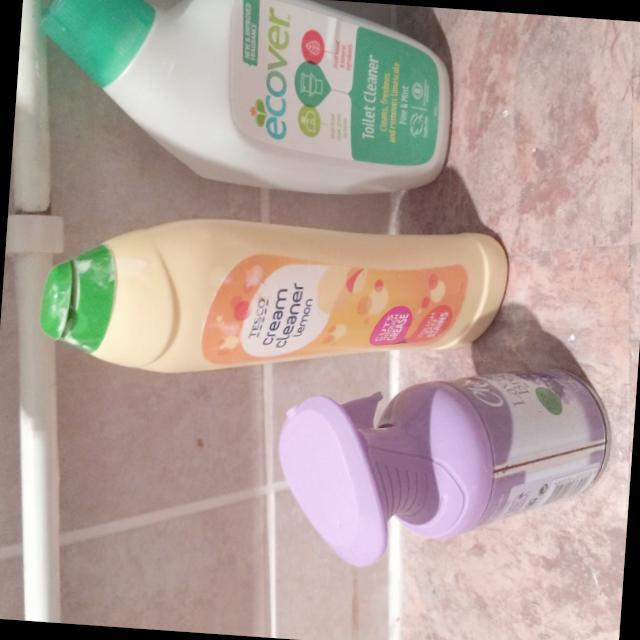HDPE Plastic: (34, 1, 456, 199), (38, 216, 512, 378), (275, 362, 615, 573)
